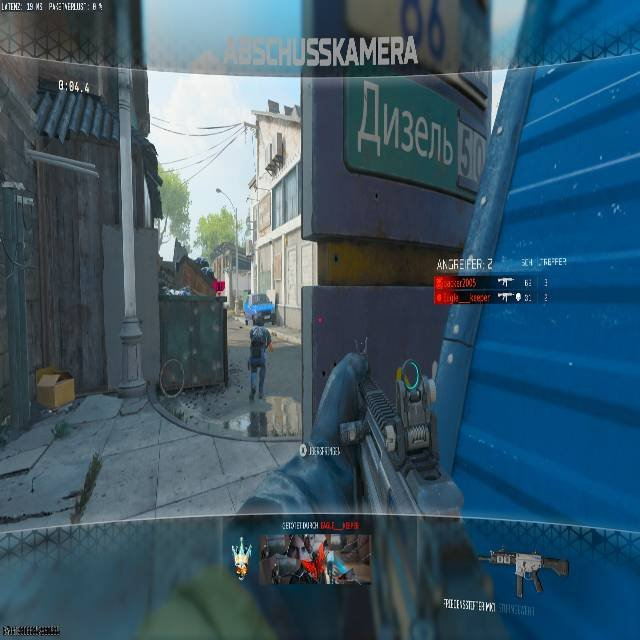head: (253, 312, 270, 326)
player: (247, 316, 272, 401)
